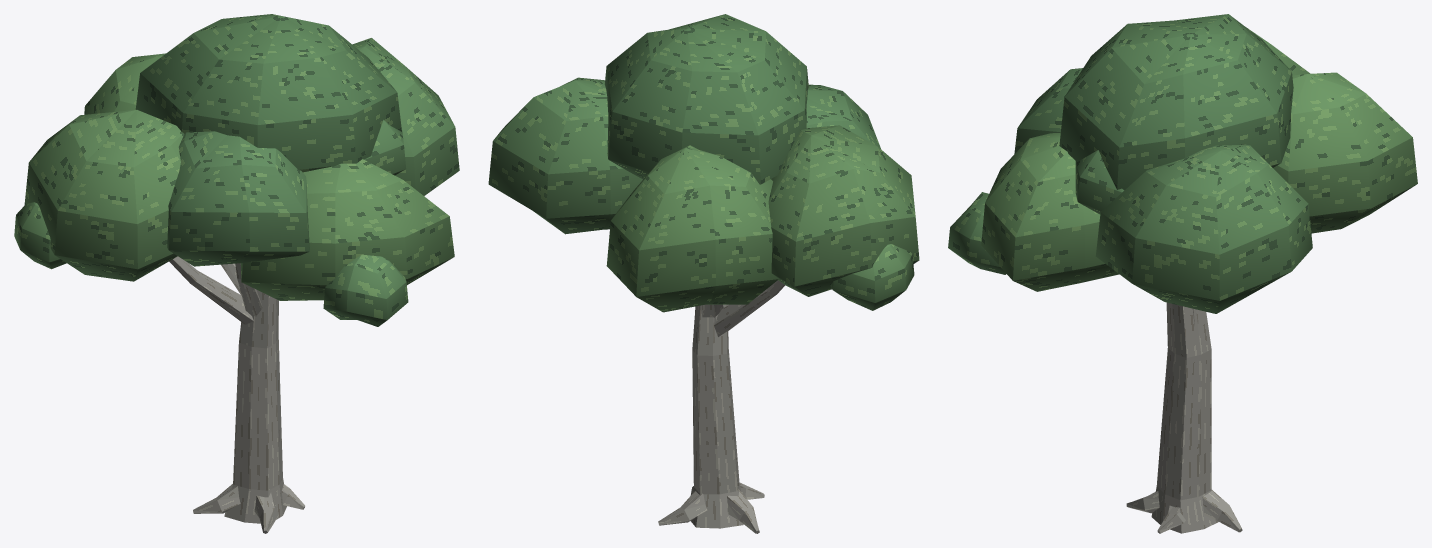
Rendered from t_tree_beech.glb.
3 views of the same model, side by side, from view 1: azimuth 30°, elevation 25°; view 2: azimuth 150°, elevation 25°; view 3: azimuth 270°, elevation 25° (orthographic). The views are drawn at different scales.
Visible parts, largest first — view 1: t_tree_beech_mesh; view 2: t_tree_beech_mesh; view 3: t_tree_beech_mesh.
Part boxes in pixels (x1,y1,x2,y2): t_tree_beech_mesh: (14,14,459,533); t_tree_beech_mesh: (488,14,919,533); t_tree_beech_mesh: (948,14,1417,533).
Size of the model in its own units: 3.4 by 3.8 by 3.25.
Materials: 1 (1 with a texture image).
